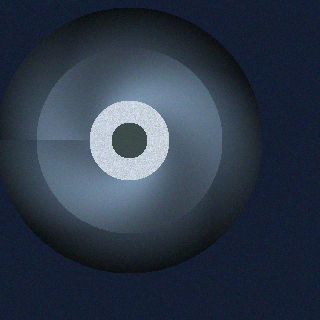cyclone_body: (31, 42, 227, 238)
cyclone_eye: (109, 120, 149, 160)
